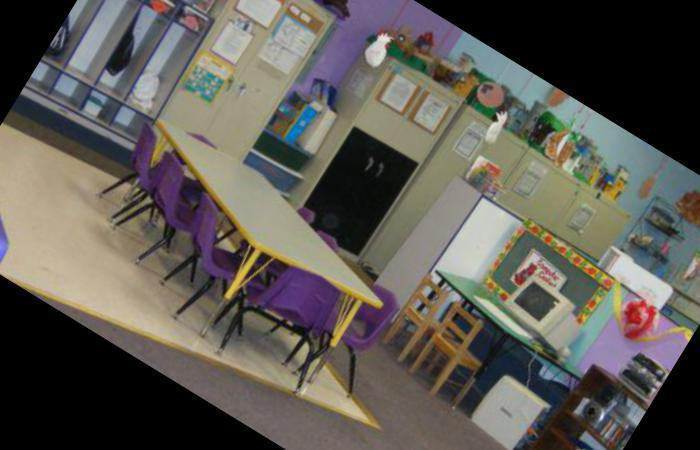Bote de Basura: (0, 0, 28, 78)
